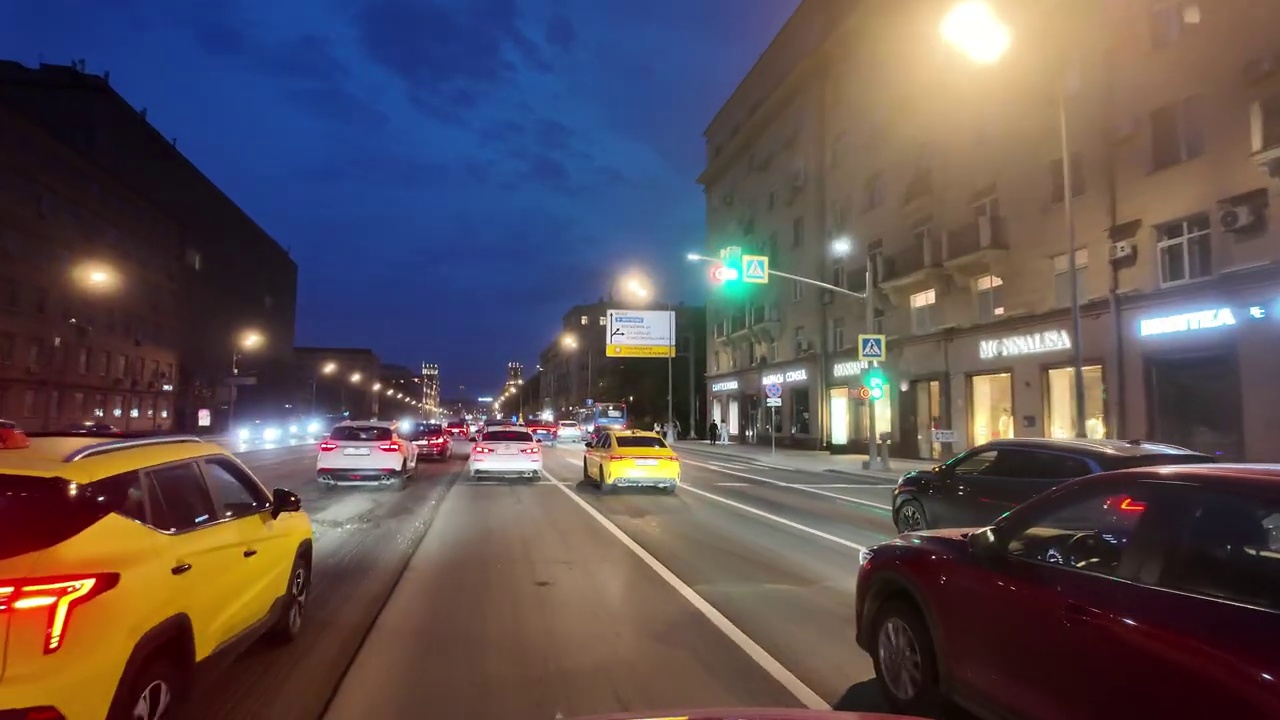acesa: (925, 3, 1019, 73), (75, 261, 119, 295), (618, 271, 653, 306), (236, 326, 268, 354), (827, 233, 857, 261), (558, 330, 582, 355), (318, 358, 341, 381)
